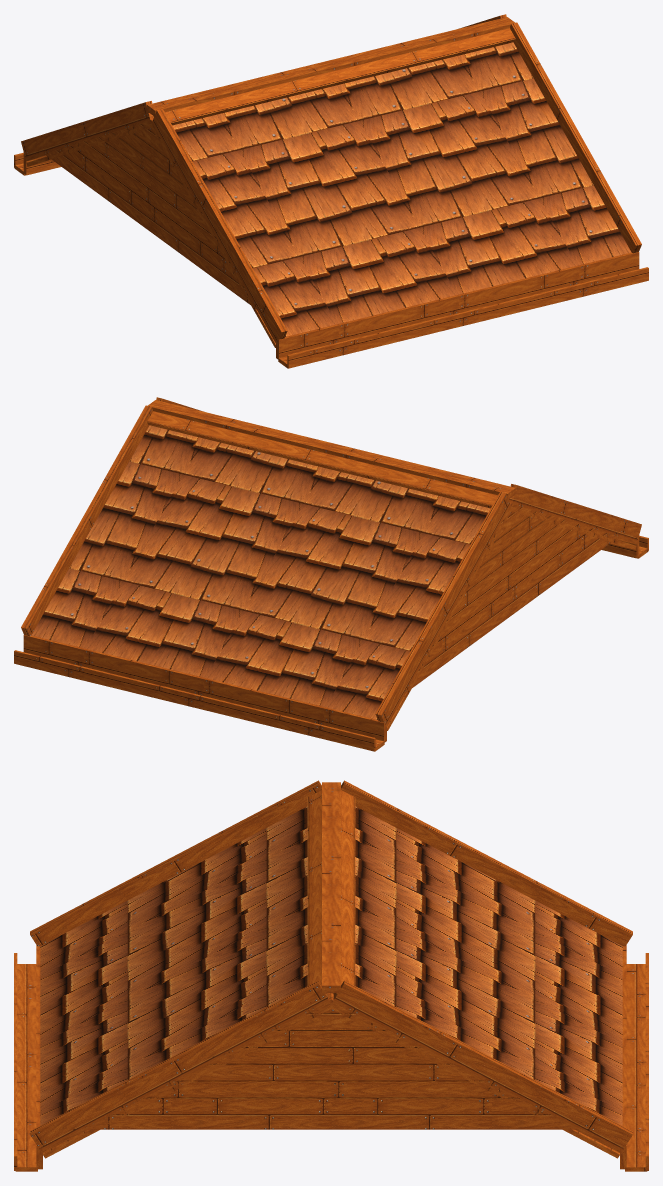
Rendered from Roof_Gable_3x3.fbx.
The picture shows the model from 3 angles, top to bottom: view 1: azimuth 30°, elevation 25°; view 2: azimuth 150°, elevation 25°; view 3: azimuth 270°, elevation 25°; orthographic projection. The views are drawn at different scales.
Visible parts, largest first — view 1: Roof_Gable_3x3; view 2: Roof_Gable_3x3; view 3: Roof_Gable_3x3.
Part boxes in pixels (x1,y1,x2,y2): Roof_Gable_3x3: (14, 14, 648, 368); Roof_Gable_3x3: (14, 397, 648, 751); Roof_Gable_3x3: (14, 780, 648, 1171).
Bounding box in the file's own units: 3 × 1.29 × 3.96.
